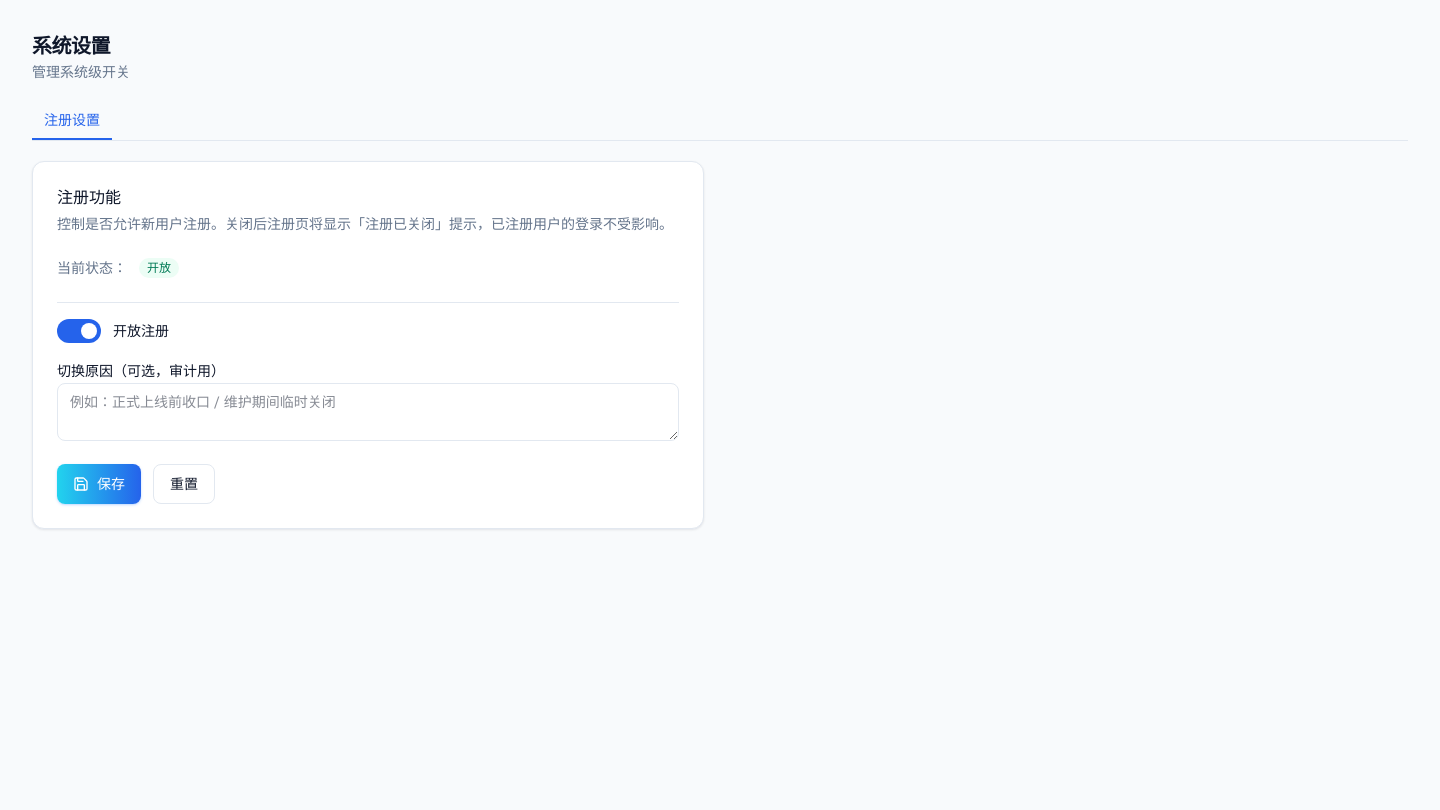
Test case: SettingsPage - registration switch › toggles to closed and saves with a reason
The width and height of the screenshot is (1440, 810).
Click the button named "开放注册" at {"x": 79, "y": 331}, box 57,319 -> 101,343
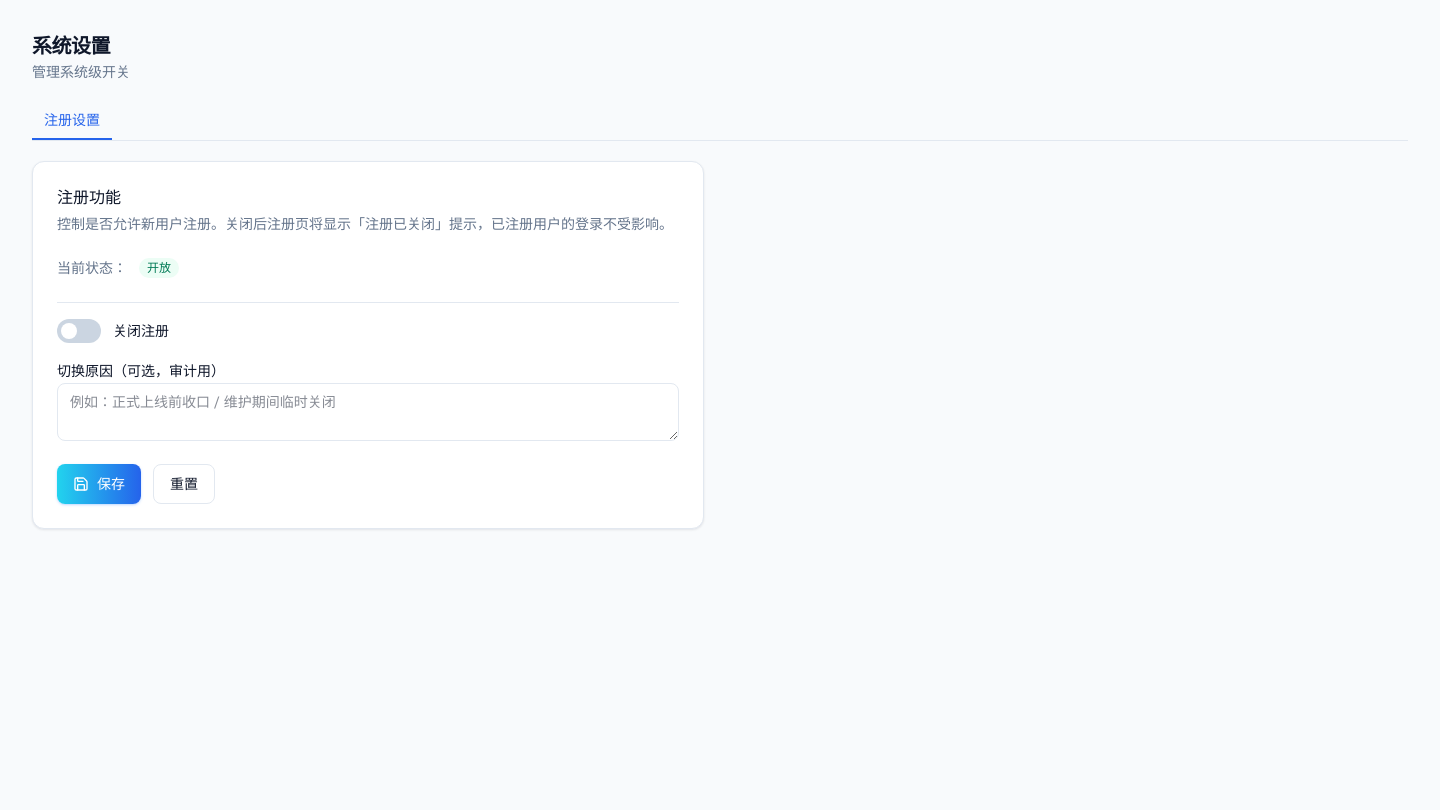
Result: the button named "关闭注册" is shown at 57,319 -> 101,343
Type "维护收口" into the text box with placeholder "例如：正式上线前收口 / 维护期间临时关闭" at {"x": 368, "y": 412}, box 57,383 -> 679,441
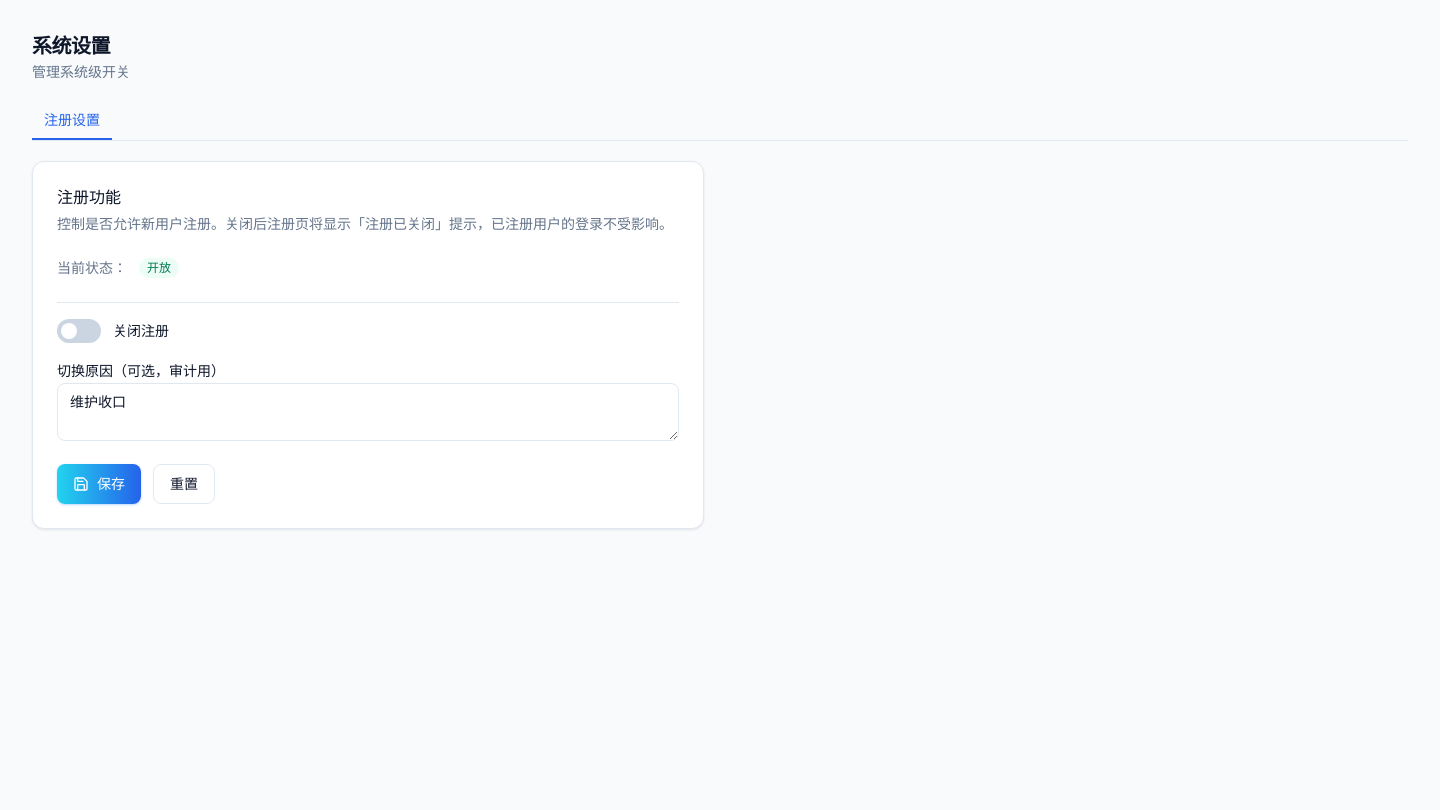
Click the button "保存" at {"x": 99, "y": 484}, box 57,464 -> 141,504
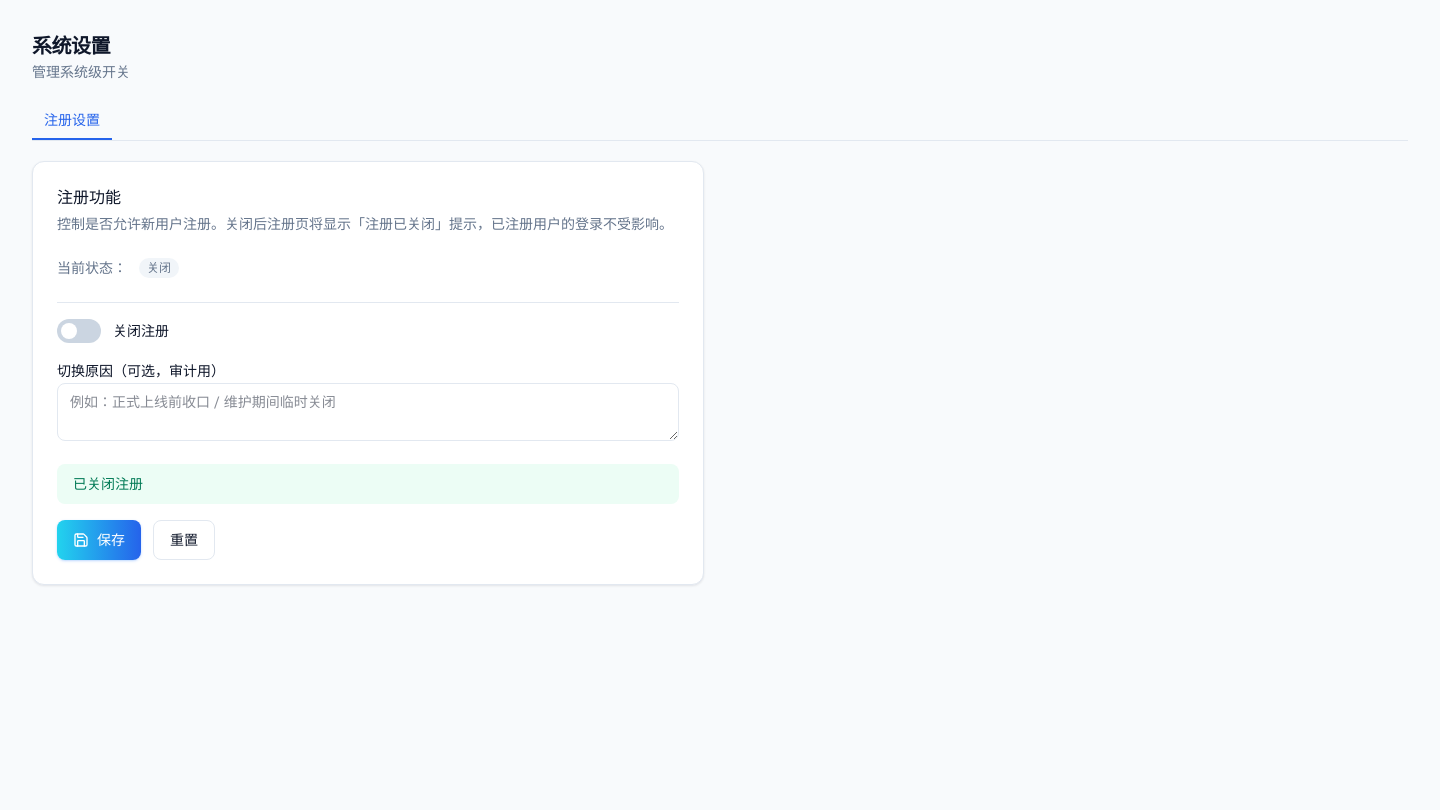
Result: the text "已关闭注册" is shown at 57,464 -> 679,504
